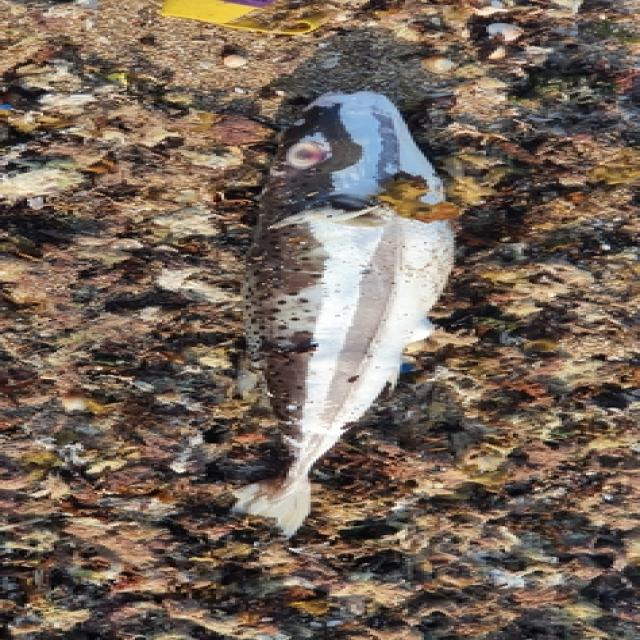Balik: (235, 93, 453, 536)
